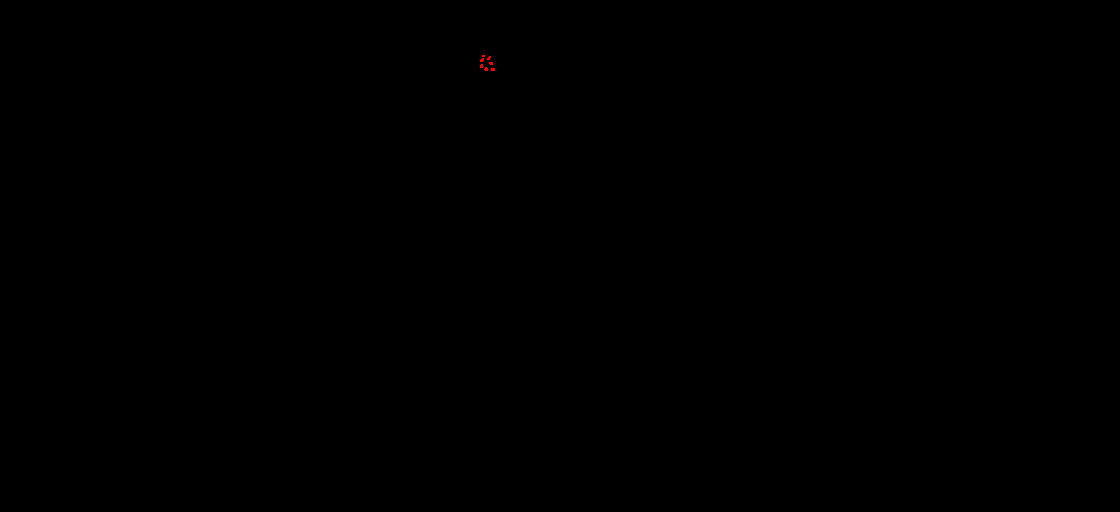Target: (487, 56, 491, 60), (480, 58, 484, 62), (484, 67, 488, 71), (489, 62, 493, 65), (480, 64, 483, 68), (491, 68, 495, 71), (482, 55, 485, 57)
